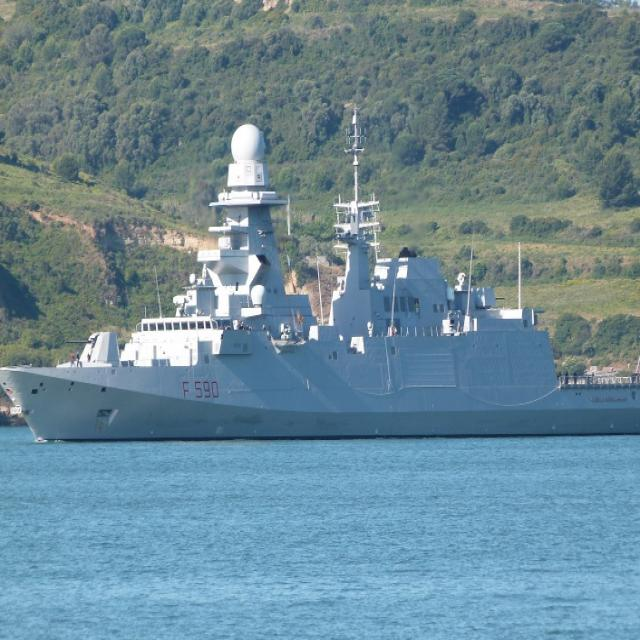Fragata: (1, 96, 640, 455)
